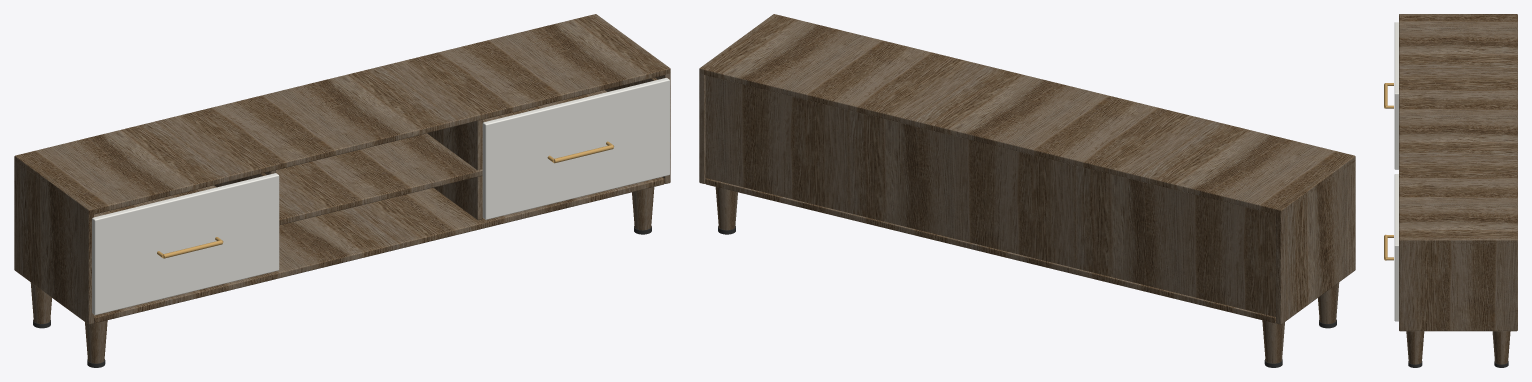
The model's file is detail-tv.glb.
The picture shows the model from 3 angles, left to right: view 1: azimuth 30°, elevation 25°; view 2: azimuth 150°, elevation 25°; view 3: azimuth 270°, elevation 25°; orthographic projection. The views are drawn at different scales.
Visible parts, largest first — view 1: 顶板, 抽屉独立面板, 抽屉独立面板.001, 底板, 可调层板, 左侧板, 设备仓隔板.001, 收分柜脚, 收分柜脚.002, 收分柜脚.001; view 2: 嵌入式背板, 顶板, 左侧板, 底板, 右侧板, 收分柜脚.001, 收分柜脚.003, 收分柜脚; view 3: 顶板, 右侧板, 抽屉独立面板, 抽屉独立面板.001, 收分柜脚.003, 收分柜脚.002, 左侧板.
Part boxes in pixels (x1,y1,x2,y2): 顶板: (14,14,670,214); 抽屉独立面板: (92,173,279,315); 抽屉独立面板.001: (482,78,669,219); 底板: (94,177,664,323); 可调层板: (94,90,606,225); 左侧板: (14,155,93,324); 设备仓隔板.001: (427,119,482,220); 收分柜脚: (85,320,107,363); 收分柜脚.002: (632,187,654,230); 收分柜脚.001: (30,282,51,323); 嵌入式背板: (705,75,1275,317); 顶板: (700,14,1355,214); 左侧板: (1276,156,1355,324); 底板: (705,178,1275,323); 右侧板: (699,14,776,183); 收分柜脚.001: (1262,320,1284,363); 收分柜脚.003: (715,187,737,230); 收分柜脚: (1318,282,1339,323); 顶板: (1399,14,1517,243); 右侧板: (1399,238,1517,331); 抽屉独立面板: (1394,22,1398,169); 抽屉独立面板.001: (1394,174,1398,321); 收分柜脚.003: (1492,331,1510,364); 收分柜脚.002: (1406,331,1424,364); 左侧板: (1399,14,1517,15).
Size of the model in its own units: 1.8 by 0.49 by 0.45.
Materials: 6 (1 with a texture image).
